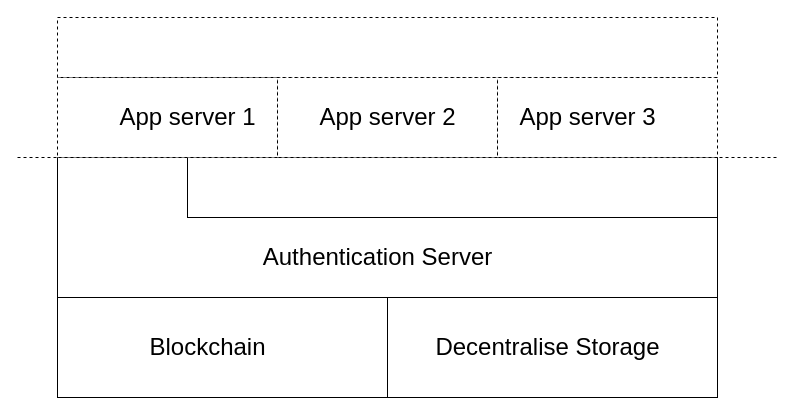
The diagram is 796 pixels wide and 415 high, and some of its shapes have lost their labels. Here are the shapes that lost their labels. From the top down, the box of each, then its label:
(56, 16, 718, 78): Authenticator client
(186, 156, 718, 218): License Manager
